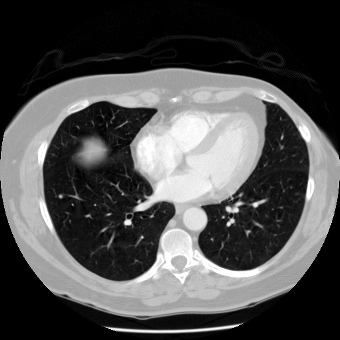nodule: (58, 194, 62, 198)
